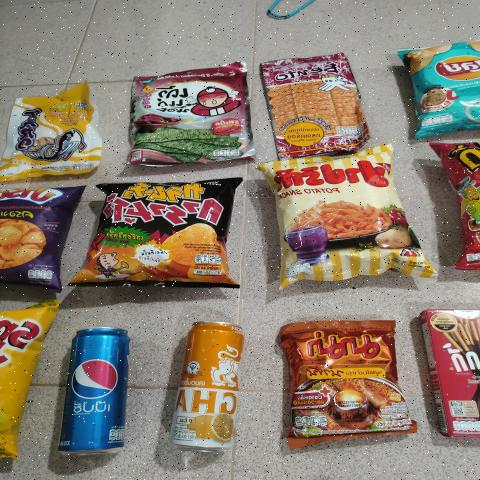bento_red: (261, 51, 359, 159)
karamujo: (82, 174, 228, 297)
lay_blue: (420, 38, 480, 131)
mama: (285, 315, 392, 437)
paprika: (290, 155, 395, 283)
party_purple: (0, 180, 78, 284)
pepsi_blue: (52, 322, 137, 458)
singha_yellow: (160, 323, 245, 464)
taokaenoi: (131, 67, 242, 169)
taro_yellow: (3, 87, 97, 178)
